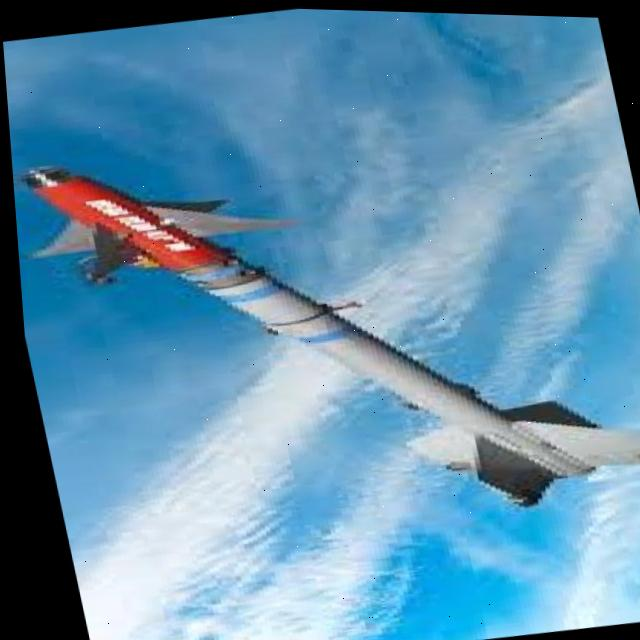missile: (5, 84, 640, 572)
